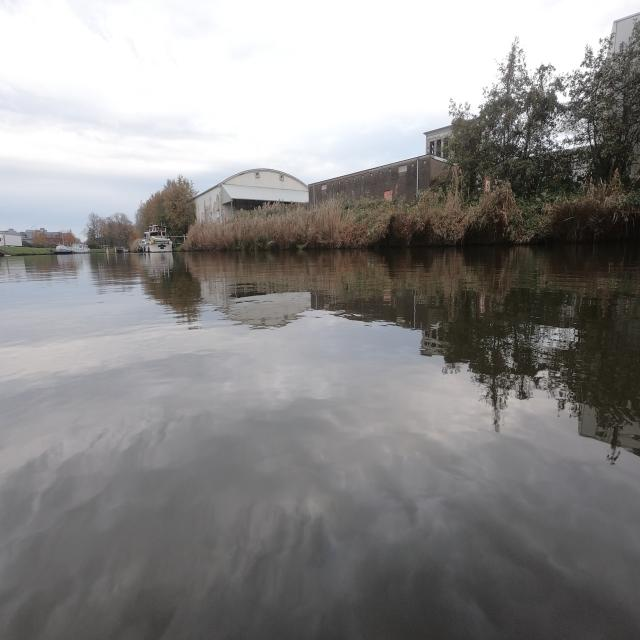boat: (136, 227, 171, 251), (55, 244, 90, 253)
grass: (0, 246, 54, 255)
reed: (179, 181, 518, 250), (526, 180, 639, 242)
sky: (2, 2, 632, 216)
tree: (448, 39, 575, 197), (603, 132, 632, 176)
water: (1, 246, 639, 639)
